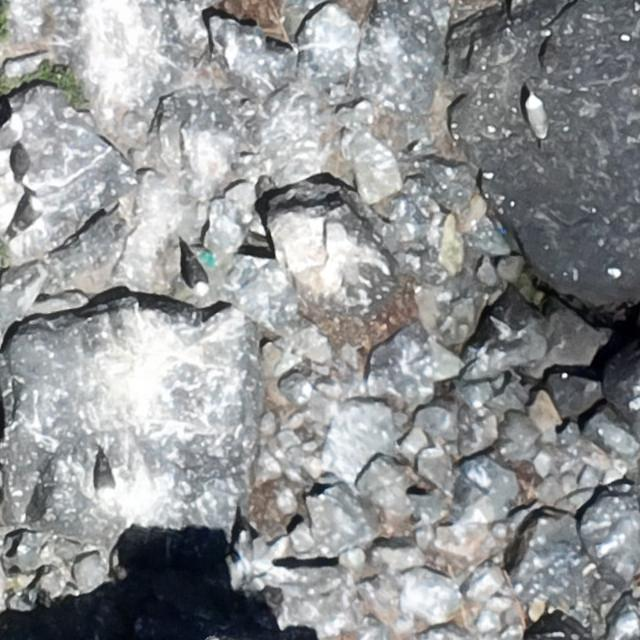umineko: (7, 192, 44, 244), (525, 97, 544, 137), (188, 258, 208, 292), (95, 461, 113, 497), (8, 56, 40, 74)
